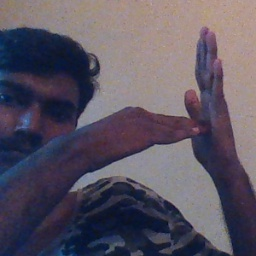Z: (122, 24, 243, 176)
